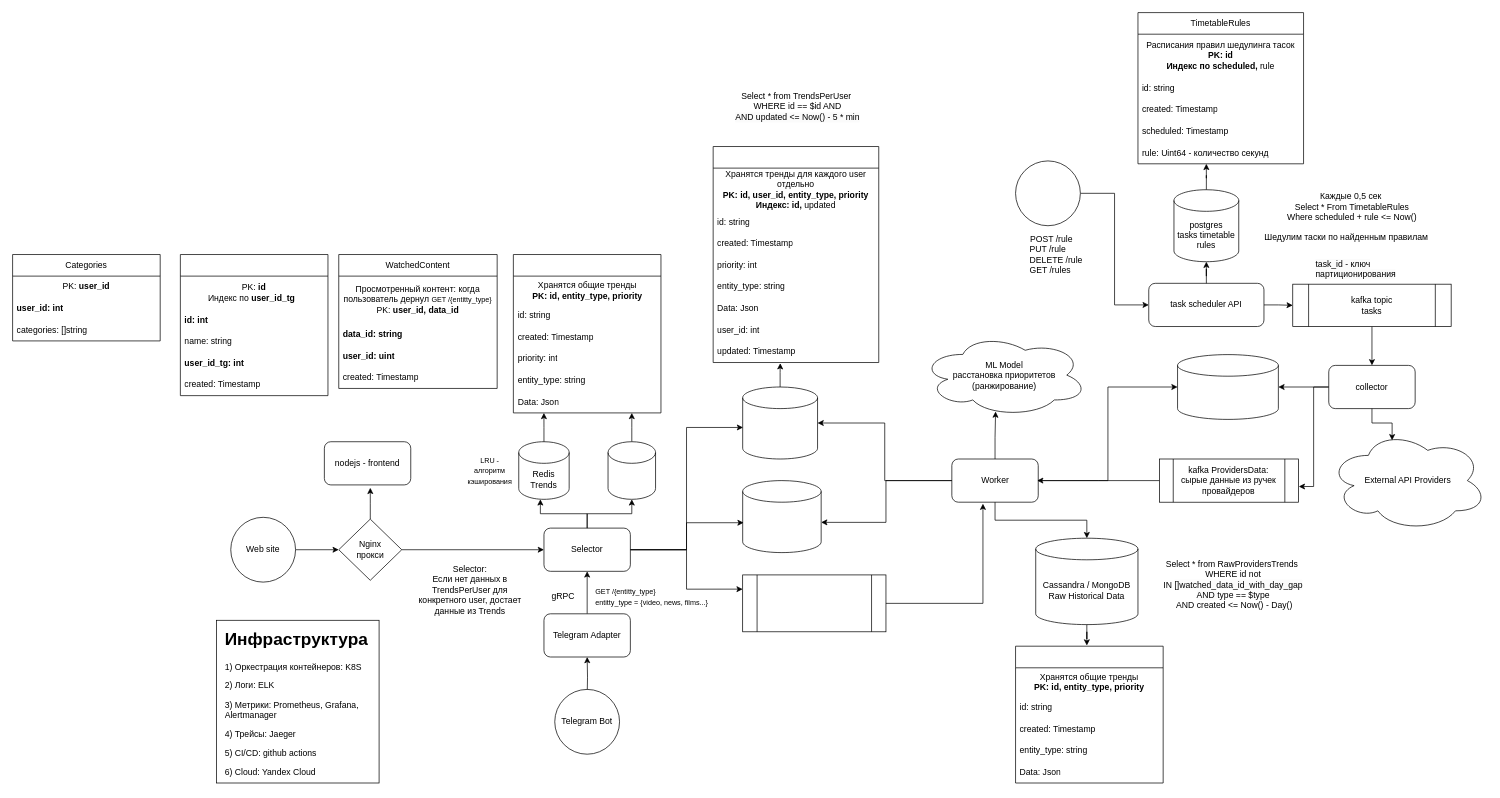
Image size: 1500x798. Some labels were removed from this diagram. The shapes that lost their labels are listed below. From the top down, each one's box as (x1, y1, x2, y2) in pixels, then its label:
(1015, 160, 1080, 226): Admin Panel
(712, 146, 879, 363): TrendsPerUser
(180, 254, 328, 396): Users
(513, 254, 661, 413): Trends
(1177, 354, 1278, 419): Outbox task_id - ключ идемпотентности
(742, 386, 818, 459): Postgres TrendsPerUser
(607, 441, 656, 499): Postgres Trends
(742, 480, 821, 553): Redis TrendsPerUser
(742, 574, 886, 632): kafka UserActivity: просмотры, лайки, выбор категорий
(1015, 645, 1163, 783): RawProvidersTrends
